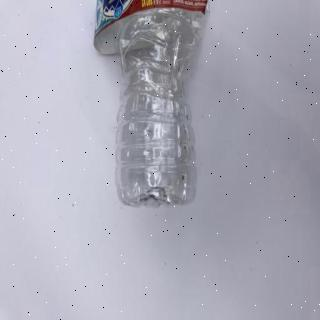Plastic-bottle: (92, 1, 215, 213)
